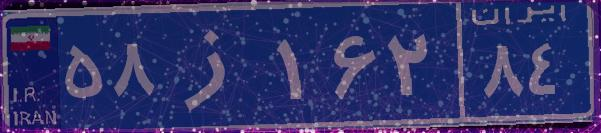1: (273, 28, 330, 110)
2: (385, 28, 445, 110)
4: (525, 38, 570, 115)
5: (57, 26, 110, 107)
6: (330, 28, 385, 110)
8: (475, 38, 525, 113), (110, 28, 158, 105)
ز: (158, 15, 273, 115)
